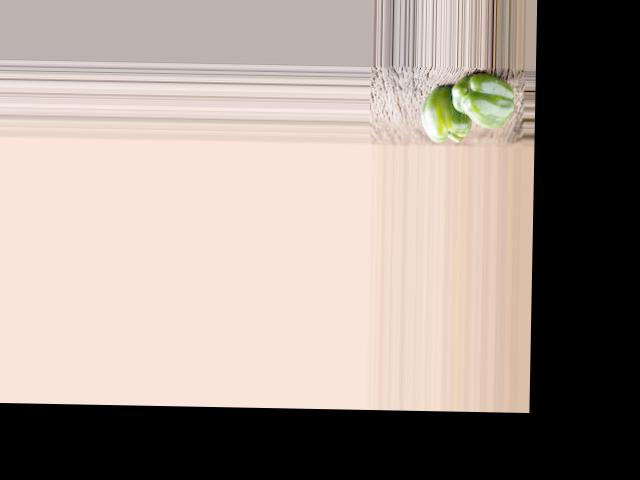bell_pepper: (448, 75, 514, 130)
